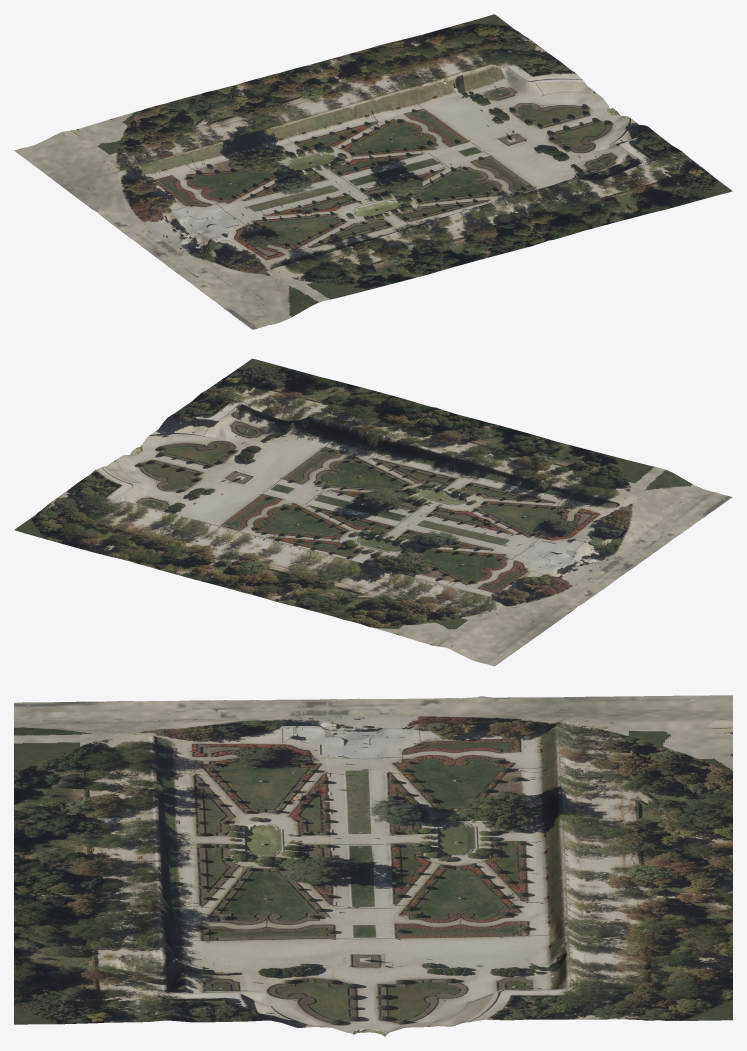
Rendered from terreno_parterre.glb.
The picture shows the model from 3 angles, top to bottom: view 1: azimuth 30°, elevation 25°; view 2: azimuth 150°, elevation 25°; view 3: azimuth 270°, elevation 25°; orthographic projection. The views are drawn at different scales.
Parts seen in each view (by area): view 1: Web_Terreno_Parterre; view 2: Web_Terreno_Parterre; view 3: Web_Terreno_Parterre.
Part boxes in pixels (bbox=[...]): Web_Terreno_Parterre: bbox=[14, 14, 732, 329]; Web_Terreno_Parterre: bbox=[14, 358, 732, 666]; Web_Terreno_Parterre: bbox=[14, 695, 732, 1036].
Size of the model in its own units: 219 by 11.89 by 188.
4 materials, 4 textured.
